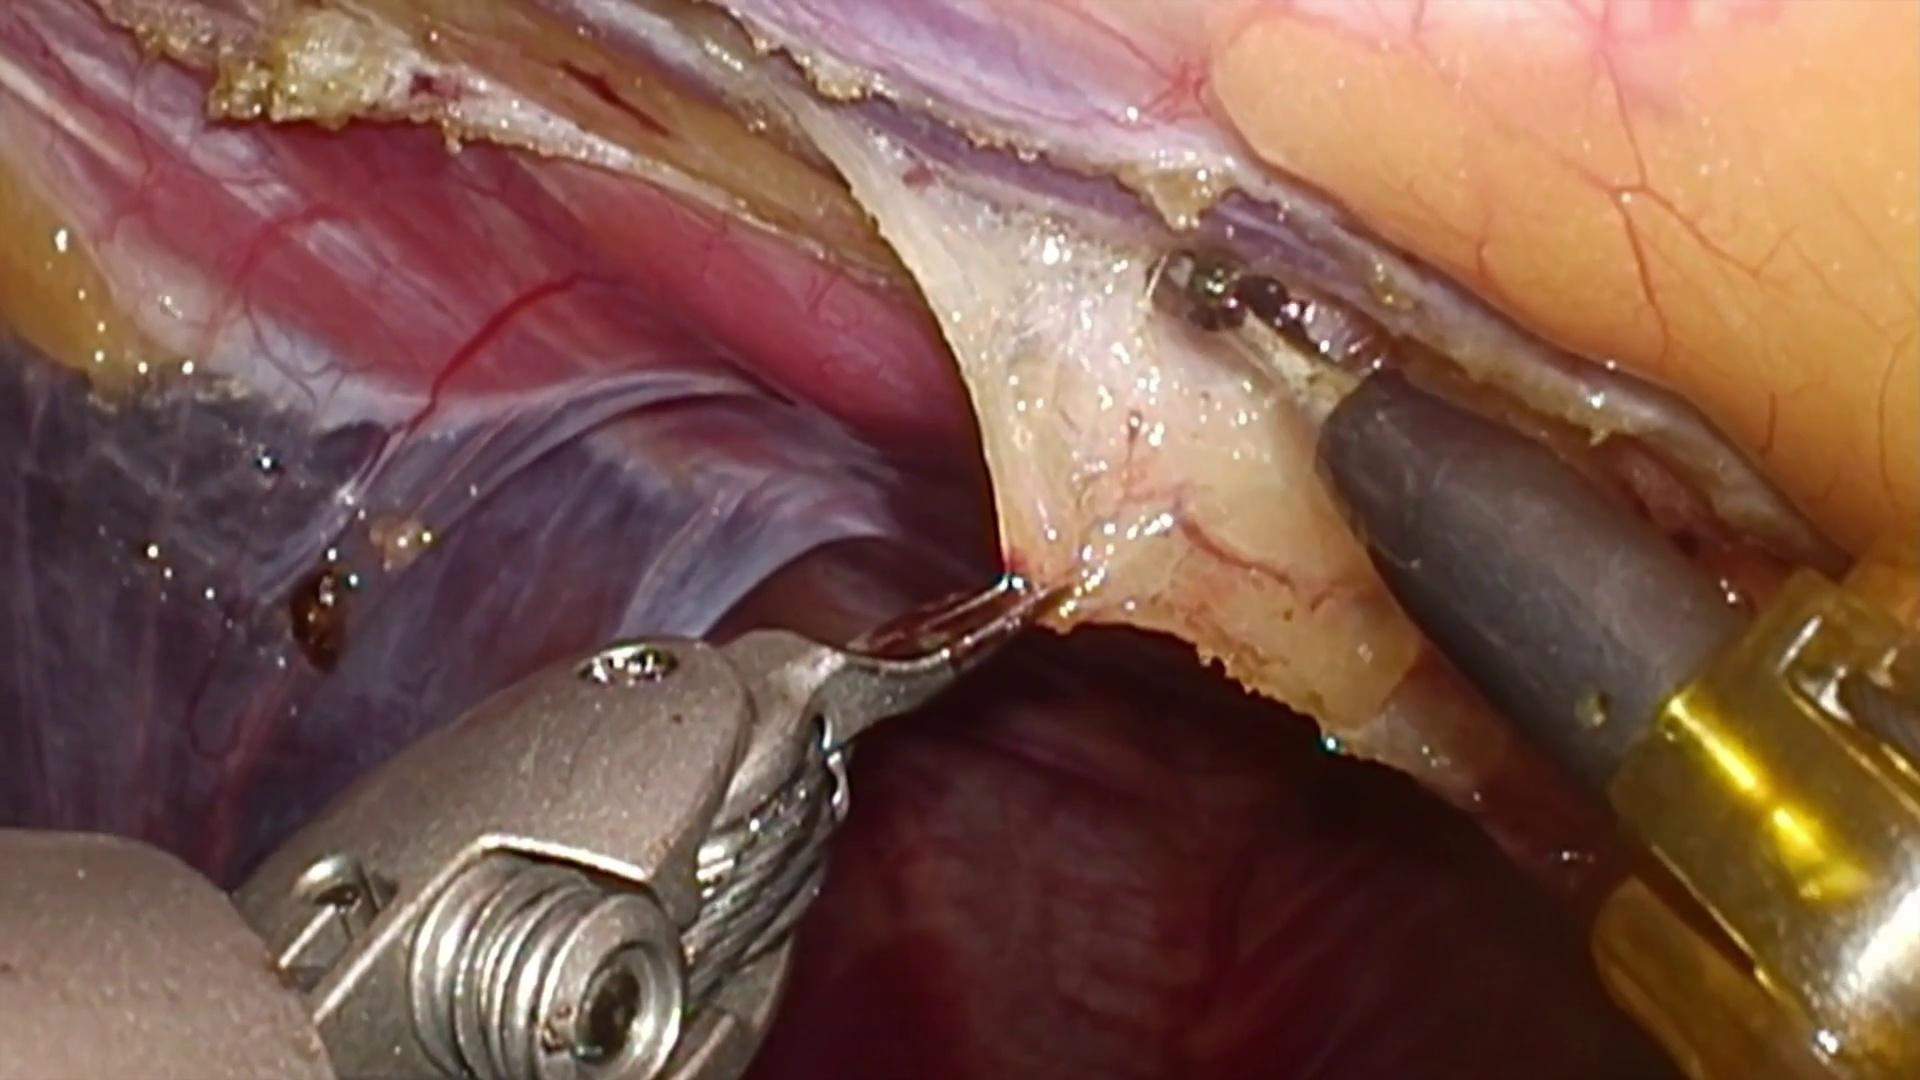Cautery_Spatula: (1166, 255, 1762, 800)
Debakey: (732, 558, 1072, 778)
